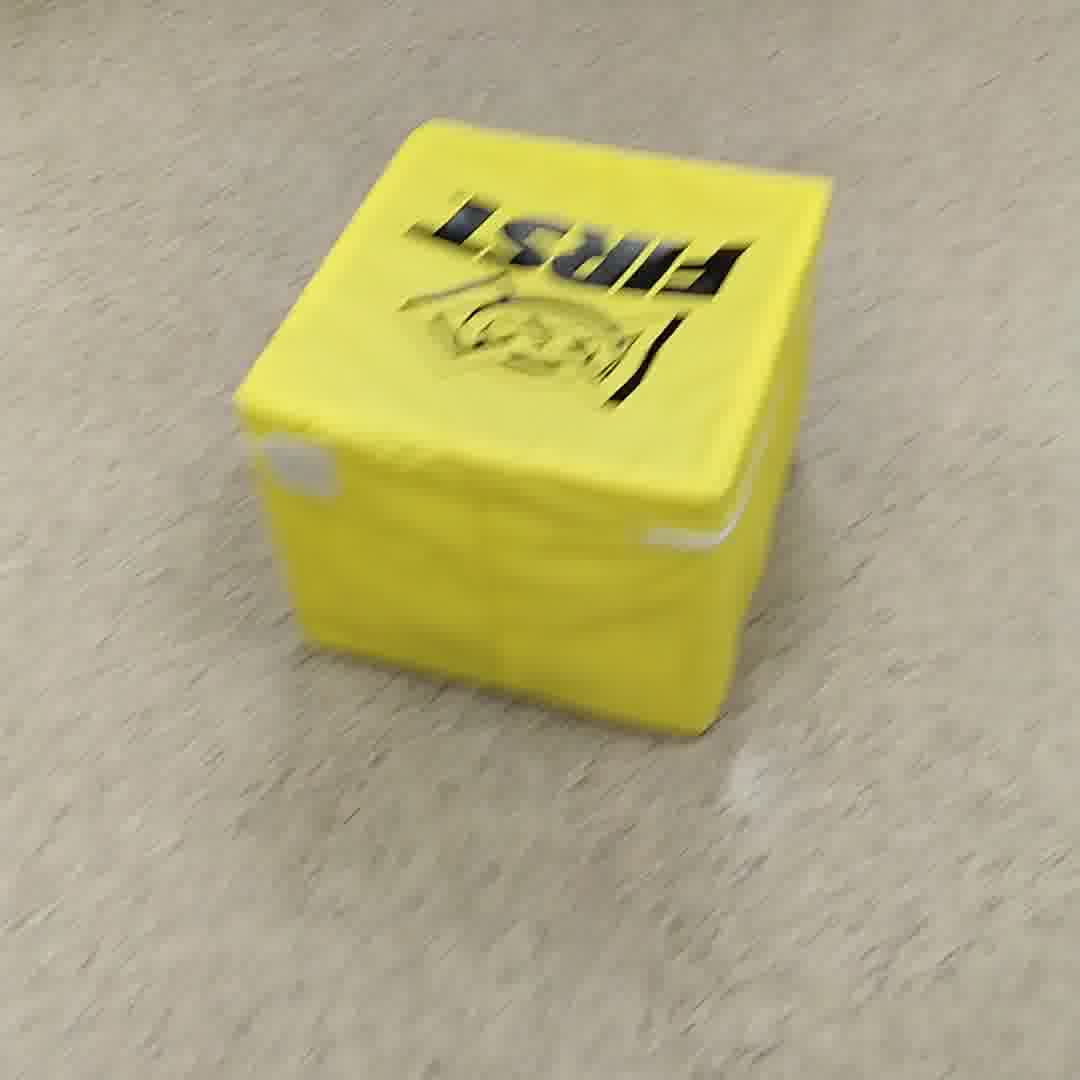box: (236, 92, 833, 755)
